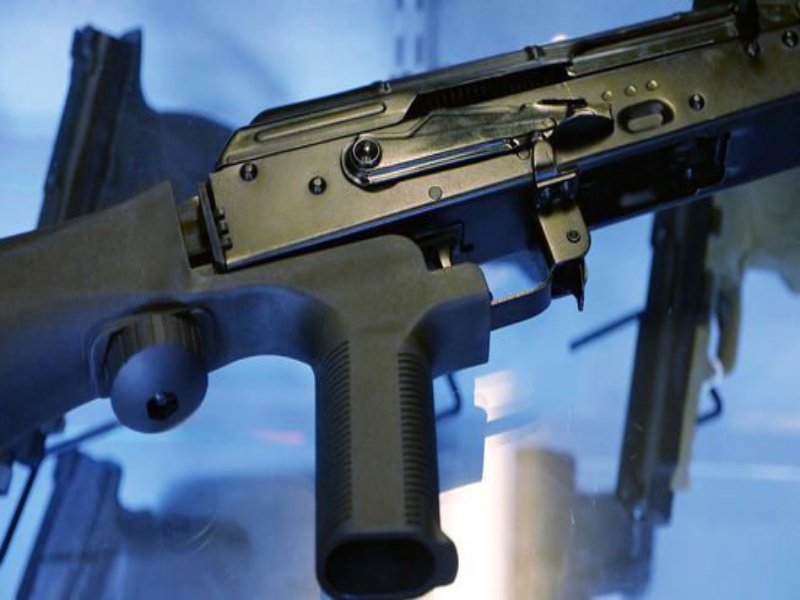gun: (2, 1, 795, 570)
